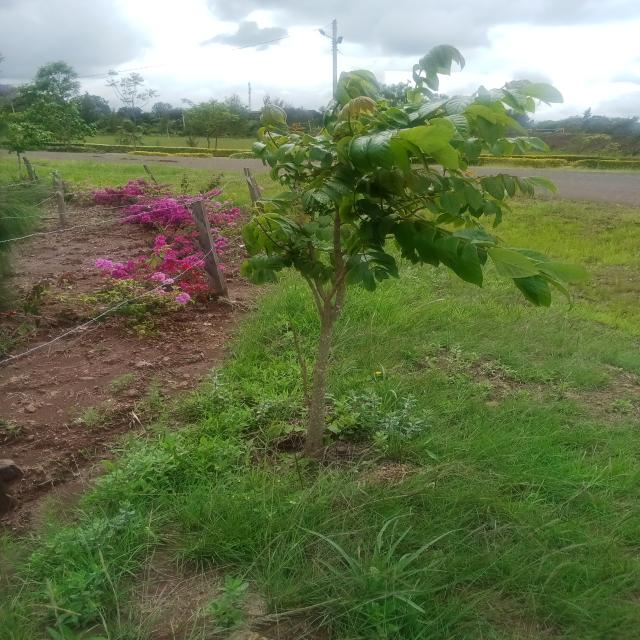Polyscias Kikuyensis: (226, 44, 590, 452)
